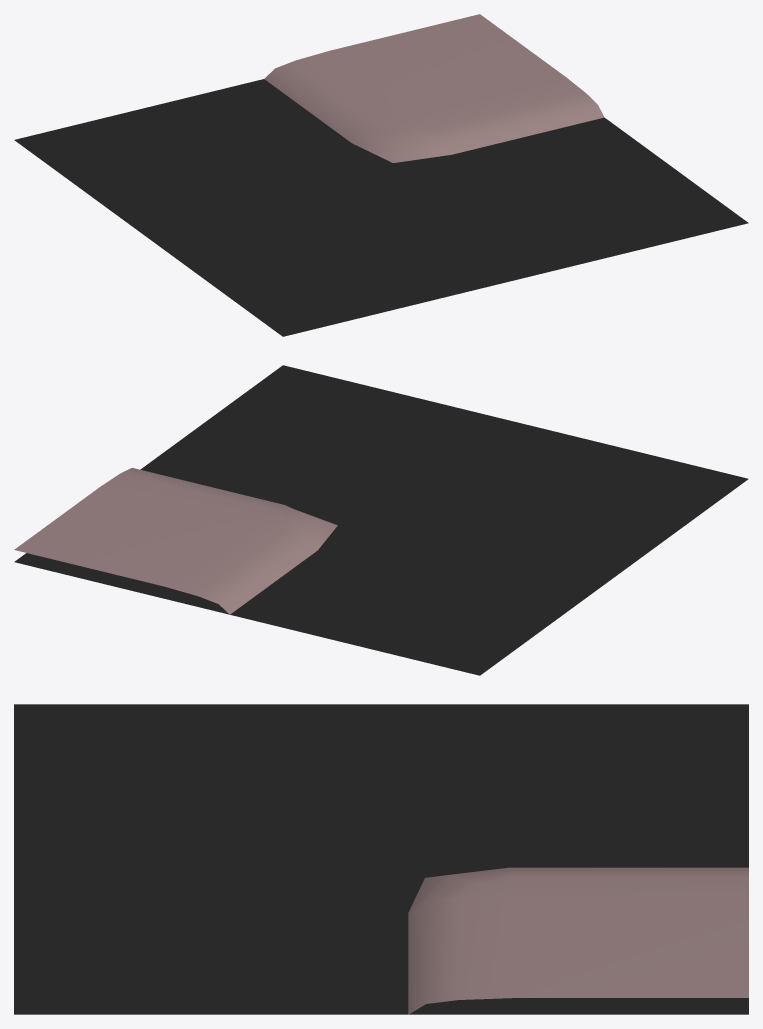
File: notrans corner out lod1.FBX
The picture shows the model from 3 angles, top to bottom: view 1: azimuth 30°, elevation 25°; view 2: azimuth 150°, elevation 25°; view 3: azimuth 270°, elevation 25°; orthographic projection. The views are drawn at different scales.
Visible parts, largest first — view 1: Object1211; view 2: Object1211; view 3: Object1211.
Boxes of the visible parts, <box> form: Object1211: <box>14,14,748,336</box>; Object1211: <box>14,365,748,675</box>; Object1211: <box>14,704,748,1014</box>.
Size of the model in its own units: 3 by 0.075 by 3.
